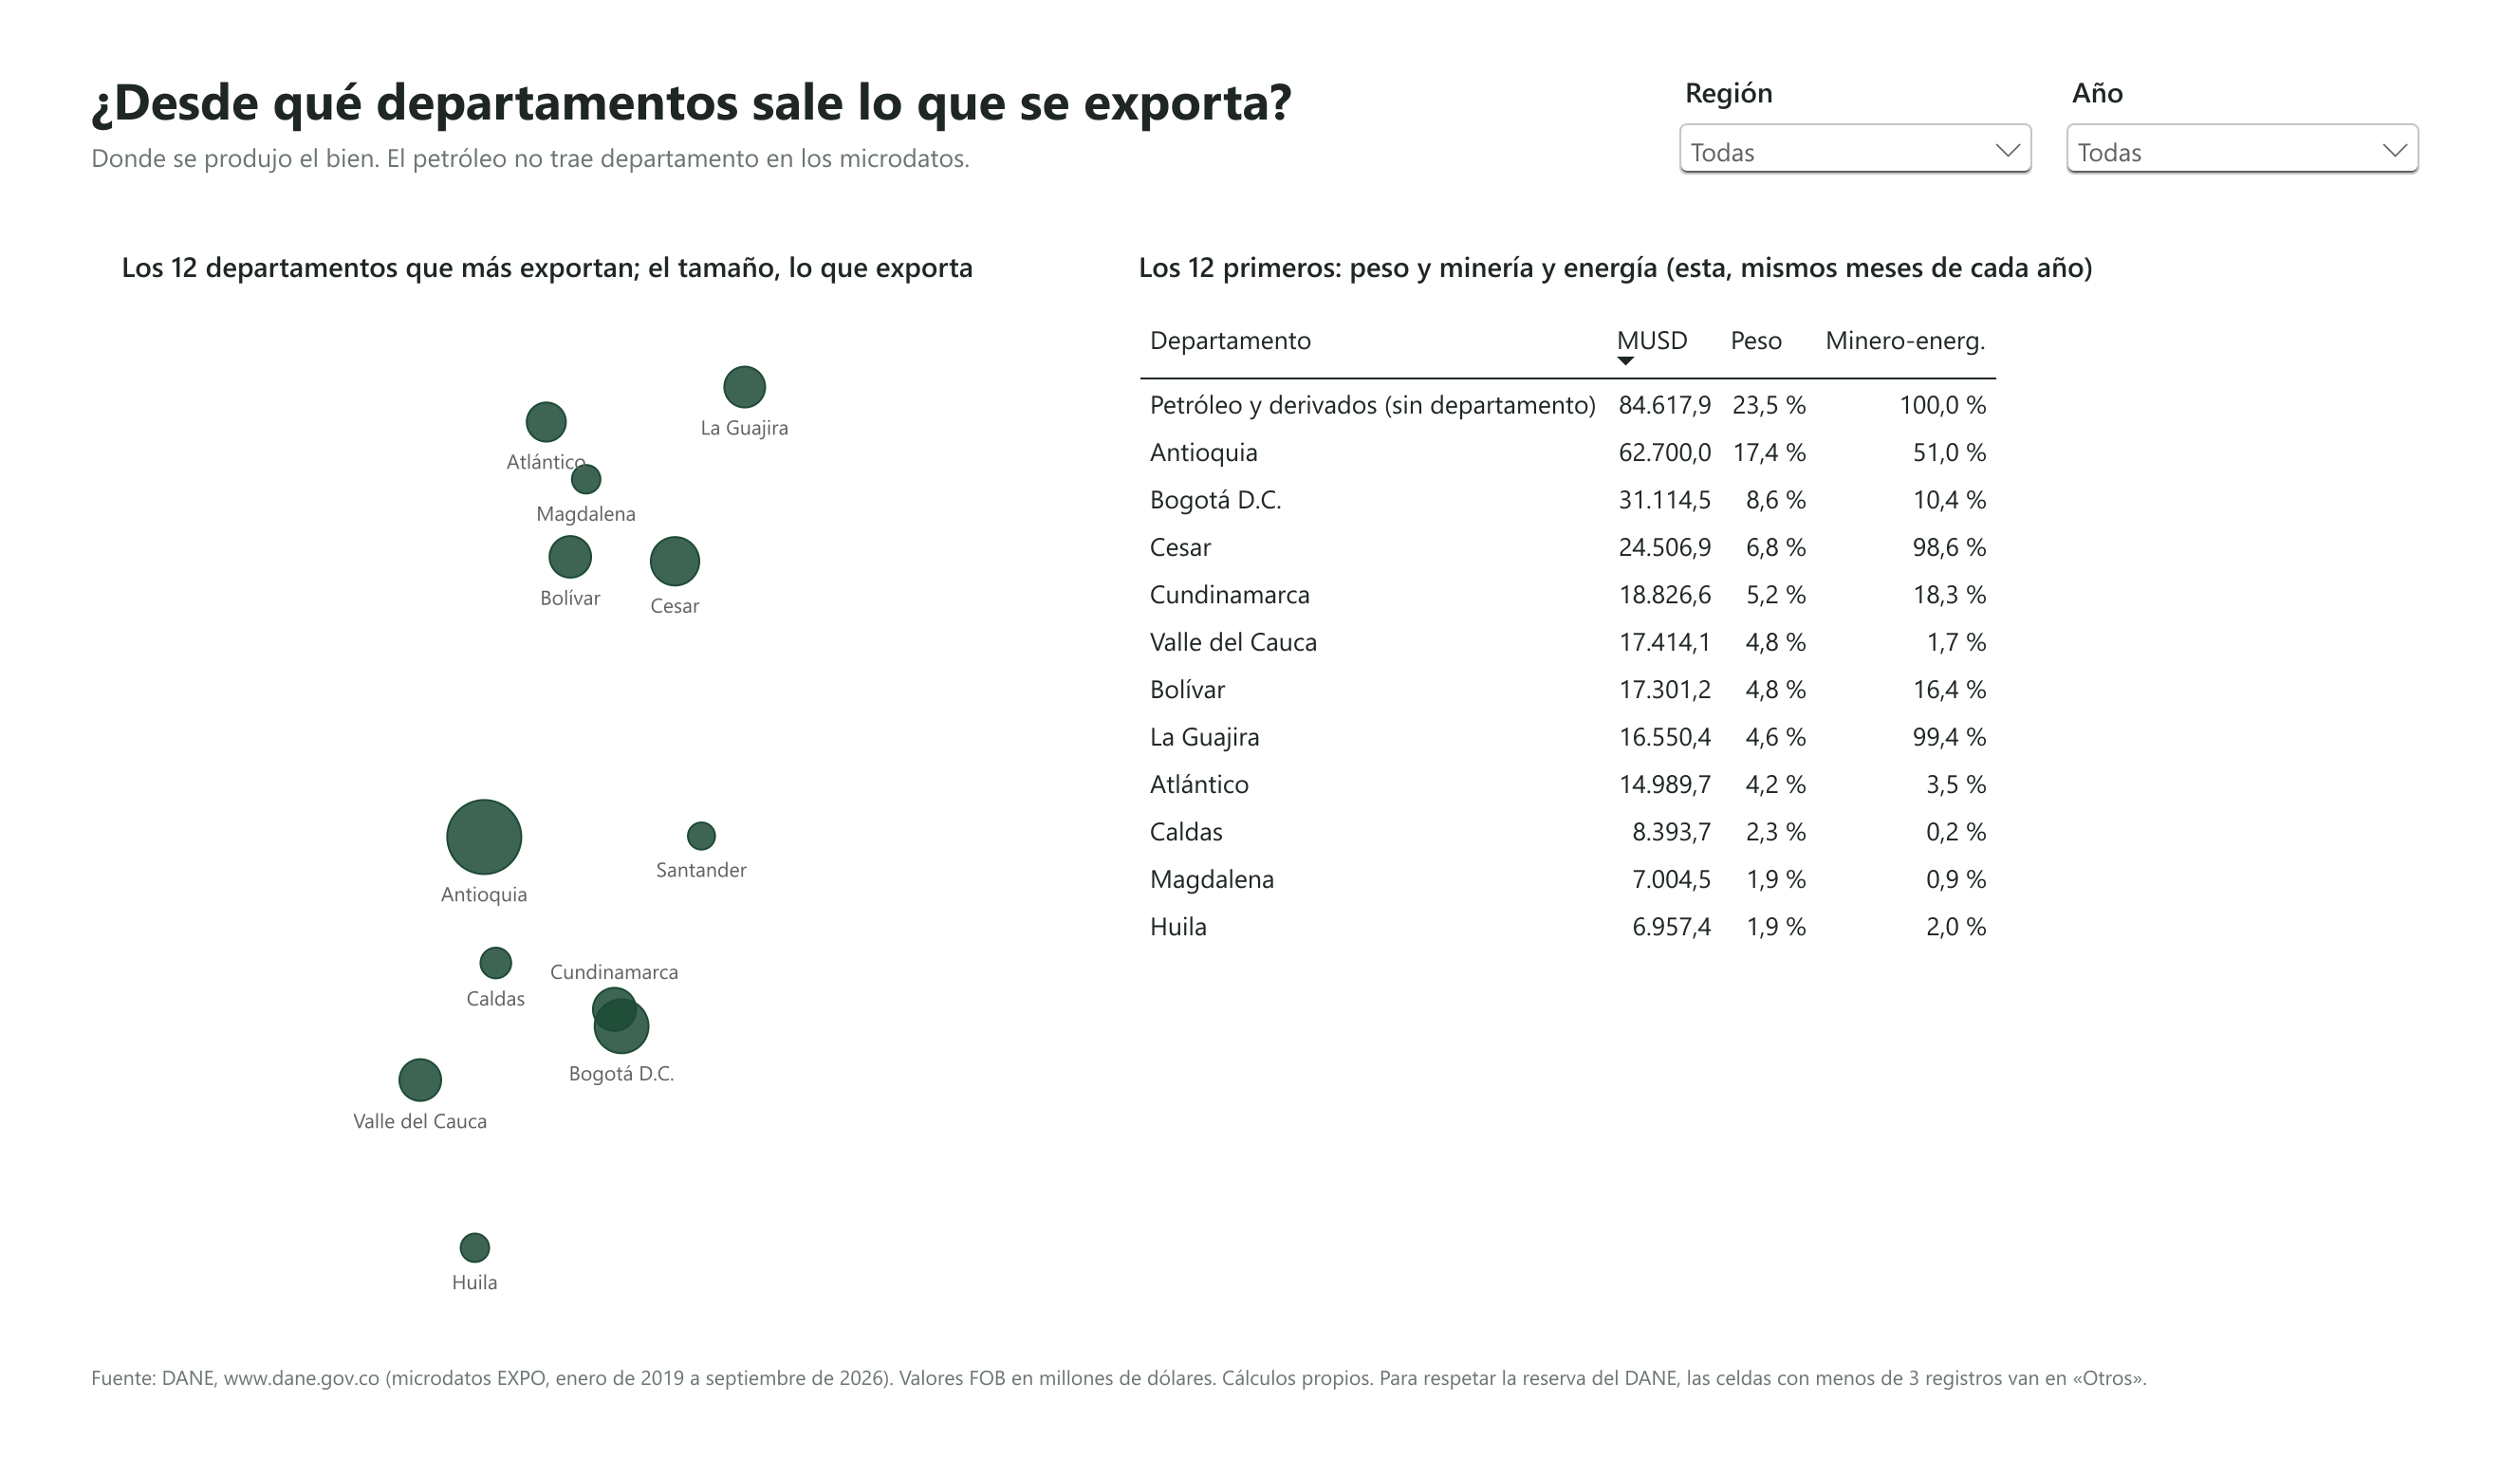

What the dashboard file says about the page in this screenshot:
{"tool":"powerbi","page":{"name":"Departamentos","canvas":[1280,720],"ordinal":3},"visuals":[{"type":"textbox","box":[24,10,800,44],"z":0},{"type":"textbox","box":[24,50,800,30],"z":1},{"type":"slicer","fields":{"Values":["Calendario.Año"]},"box":[1060,14,196,64],"z":2},{"type":"slicer","fields":{"Values":["dim_departamento.Región"]},"box":[856,14,196,64],"z":3},{"type":"scatterChart","title":"Los 12 departamentos que más exportan; el tamaño, lo que exporta","fields":{"Category":["dim_departamento.Departamento"],"Size":["Medidas.Exportaciones por departamento (MUSD)"],"X":["Medidas.Longitud del mapa"],"Y":["Medidas.Latitud del mapa"]},"box":[24,92,520,592],"z":4},{"type":"tableEx","title":"Los 12 primeros: peso y minería y energía (esta, mismos meses de cada año)","fields":{"Values":["dim_departamento.Departamento","Medidas.Exportaciones por departamento (MUSD) · 12 primeros departamentos","Medidas.Participación por departamento % · 12 primeros departamentos","Medidas.Minero-energético por departamento % · 12 primeros departamentos"]},"box":[560,92,696,592],"z":5},{"type":"textbox","box":[24,692,1232,24],"z":90}]}

Visuals, with their boxes in screenshot pixels (x1, y1, x2, y2), scaled from the page's 1280x720 canvas onto the 2520x1457 screenshot:
textbox: detection(47, 20, 1622, 109)
textbox: detection(47, 101, 1622, 162)
slicer - Calendario.Año: detection(2087, 28, 2473, 157)
slicer - dim_departamento.Región: detection(1685, 28, 2071, 157)
"Los 12 departamentos que más exportan; el tamaño, lo que exporta" scatterChart: detection(47, 186, 1071, 1384)
"Los 12 primeros: peso y minería y energía (esta, mismos meses de cada año)" tableEx: detection(1102, 186, 2473, 1384)
textbox: detection(47, 1400, 2473, 1448)
